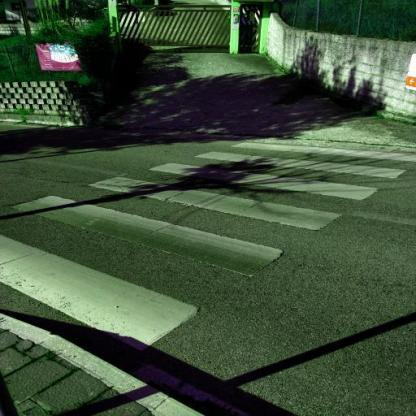crosswalk: (6, 172, 343, 280)
